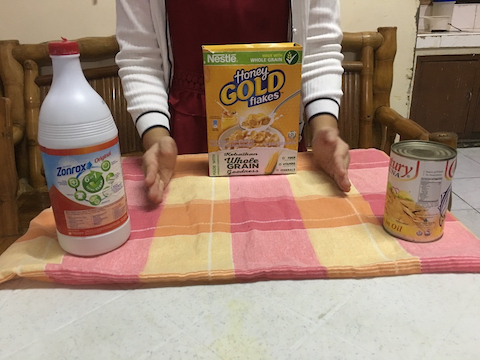bottle: (35, 37, 136, 259)
box: (202, 40, 307, 181)
can: (379, 139, 460, 244)
